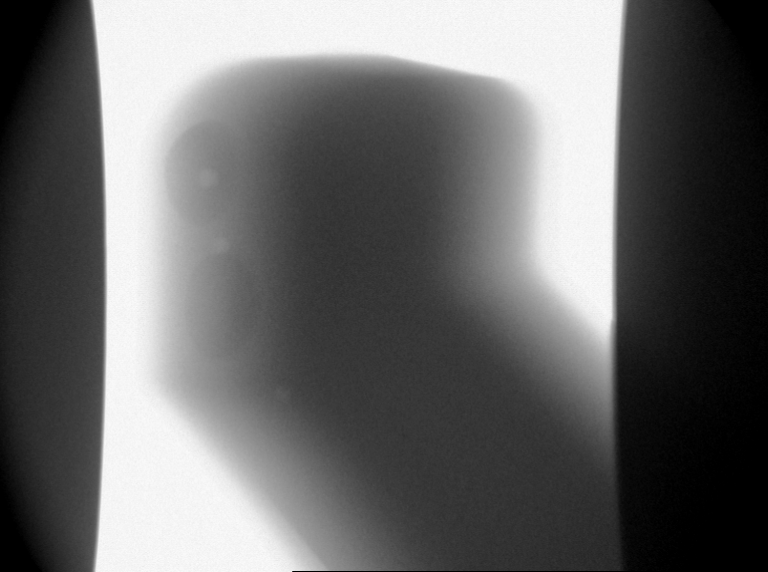defect: (274, 384, 296, 409)
